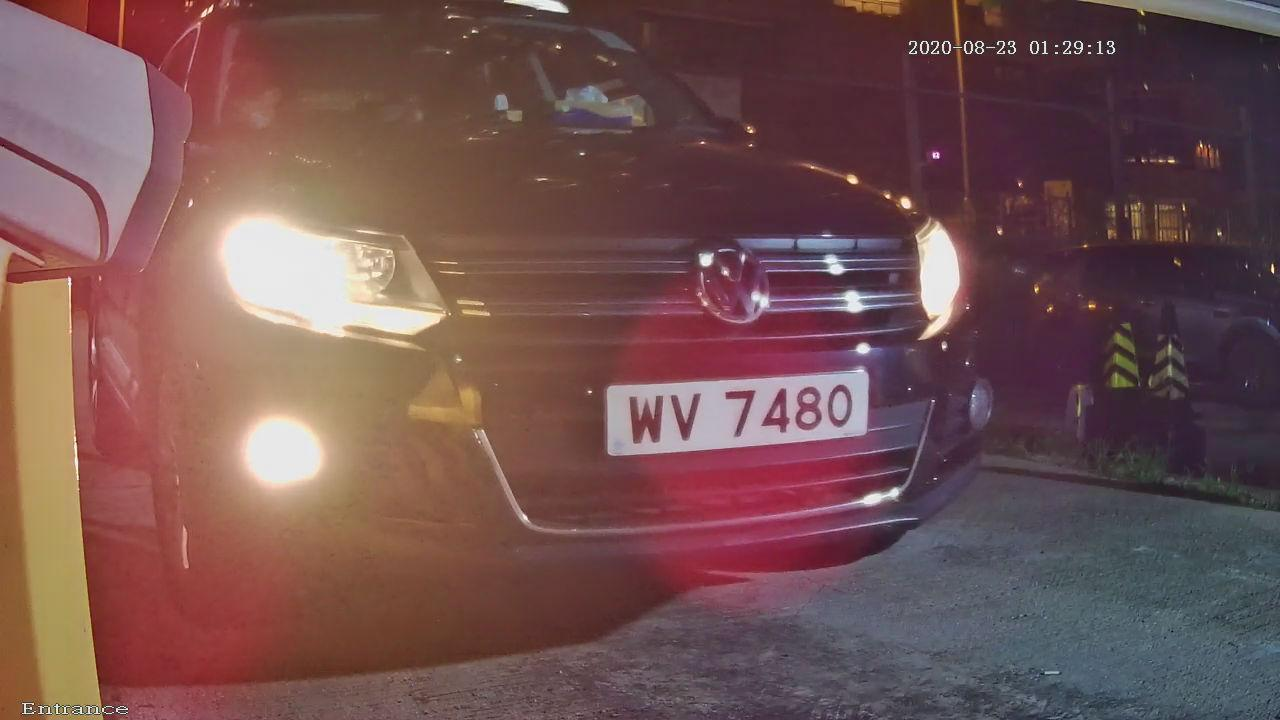Car: (1, 33, 1132, 643)
License Plate: (565, 327, 920, 497)
